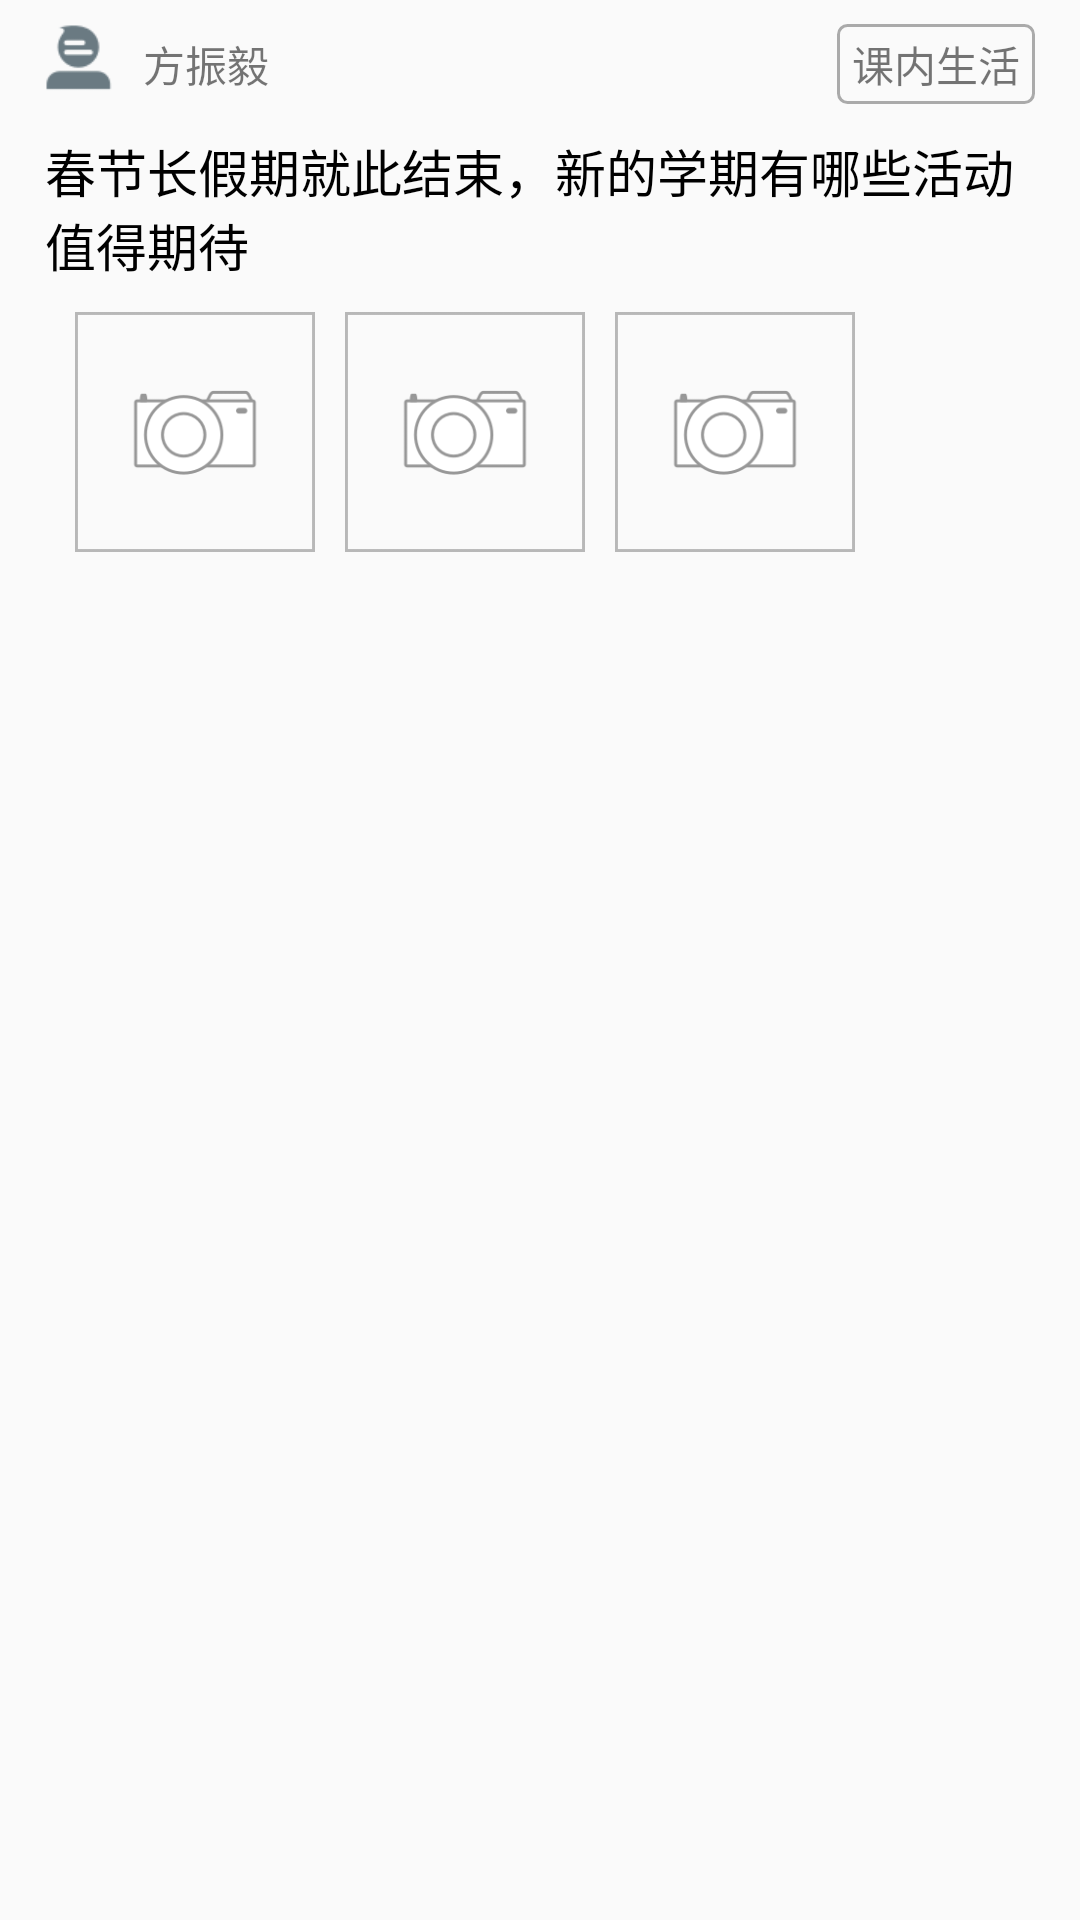

Icons on this 1080*1920 Android screen, each with its box as box=[x1, y1, x2, y2]:
author: box=[46, 25, 111, 90]
camera: box=[75, 312, 315, 552], box=[345, 312, 585, 552], box=[615, 312, 855, 552]
